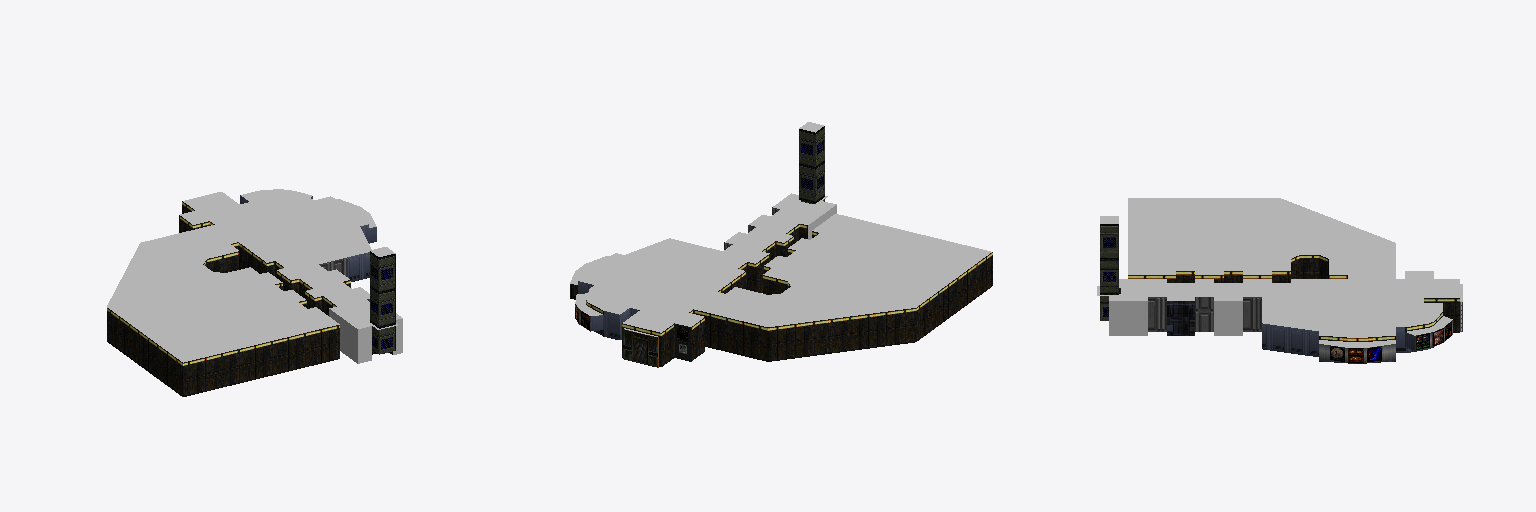
The picture shows the model from 3 angles: view 1: azimuth 30°, elevation 25°; view 2: azimuth 150°, elevation 25°; view 3: azimuth 270°, elevation 25°; orthographic projection.
Visible parts, largest first — view 1: MAP01; view 2: MAP01; view 3: MAP01.
Boxes of the visible parts, x1=… form: MAP01: x1=107, y1=189, x2=402, y2=396; MAP01: x1=570, y1=122, x2=992, y2=367; MAP01: x1=1097, y1=198, x2=1462, y2=363.
Size of the model in its own units: 46.08 by 16.68 by 48.96.
Materials: 27 (14 with a texture image).